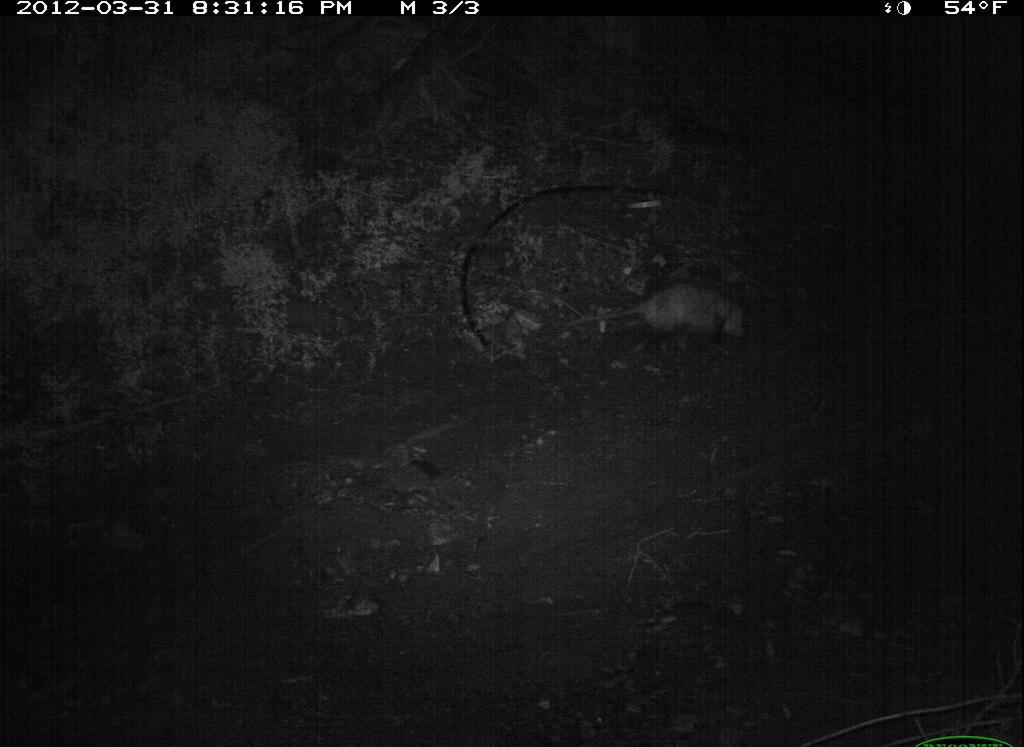opossum: (571, 277, 754, 353)
